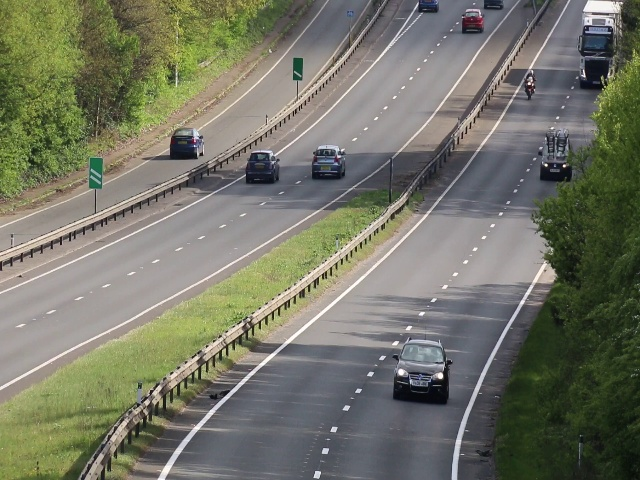car: (391, 340, 450, 403), (311, 144, 347, 178), (580, 33, 601, 90), (244, 152, 280, 184), (169, 126, 204, 158), (540, 156, 571, 181), (462, 9, 486, 34)
